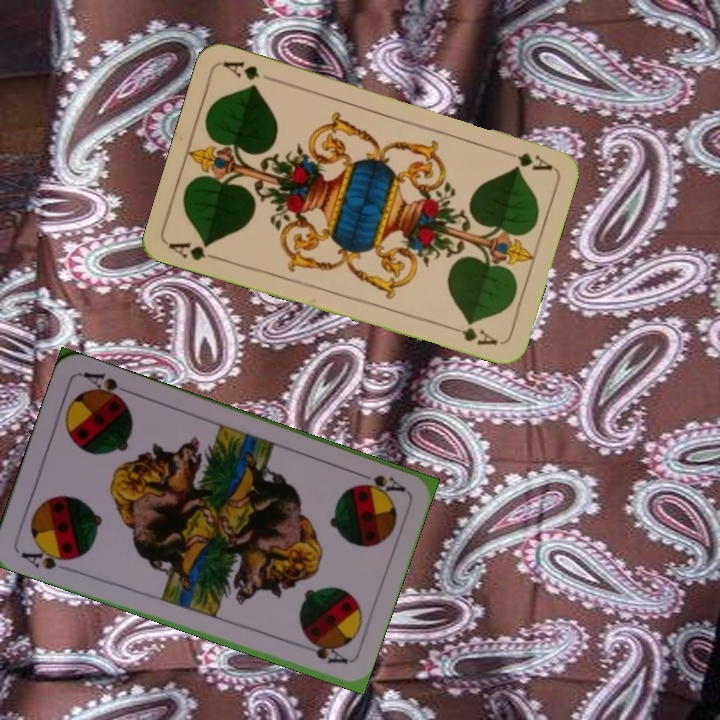GA: (165, 238, 224, 264), (513, 148, 555, 173)
SA: (16, 542, 76, 573), (351, 467, 409, 498)
